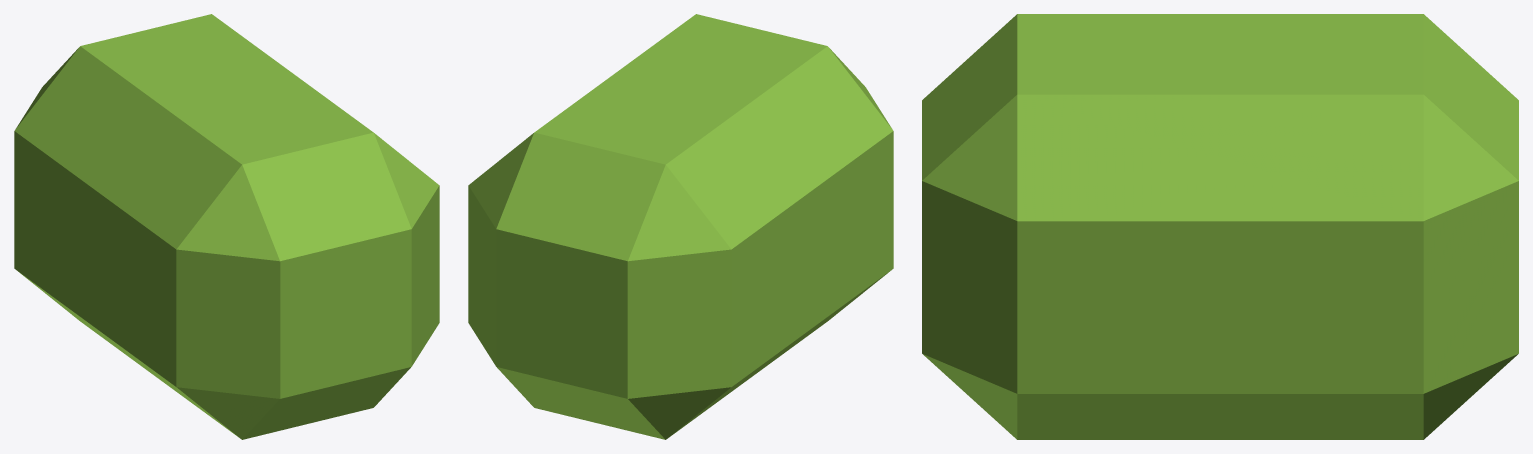
The model's file is Arbusto.fbx.
3 renders of one model, left to right at view 1: azimuth 30°, elevation 25°; view 2: azimuth 150°, elevation 25°; view 3: azimuth 270°, elevation 25°, orthographic. The views are drawn at different scales.
Visible parts, largest first — view 1: Escenario:Arbusto; view 2: Escenario:Arbusto; view 3: Escenario:Arbusto.
Part boxes in pixels (x1,y1,x2,y2): Escenario:Arbusto: [14, 14, 439, 439]; Escenario:Arbusto: [468, 14, 893, 439]; Escenario:Arbusto: [922, 14, 1518, 439].
Bounding box in the file's own units: 2.25 × 2.25 × 3.53.
